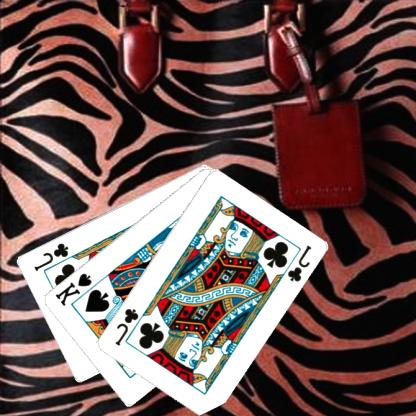JC: (32, 240, 72, 272), (286, 242, 314, 284), (114, 306, 142, 347)
KS: (54, 270, 95, 307)
